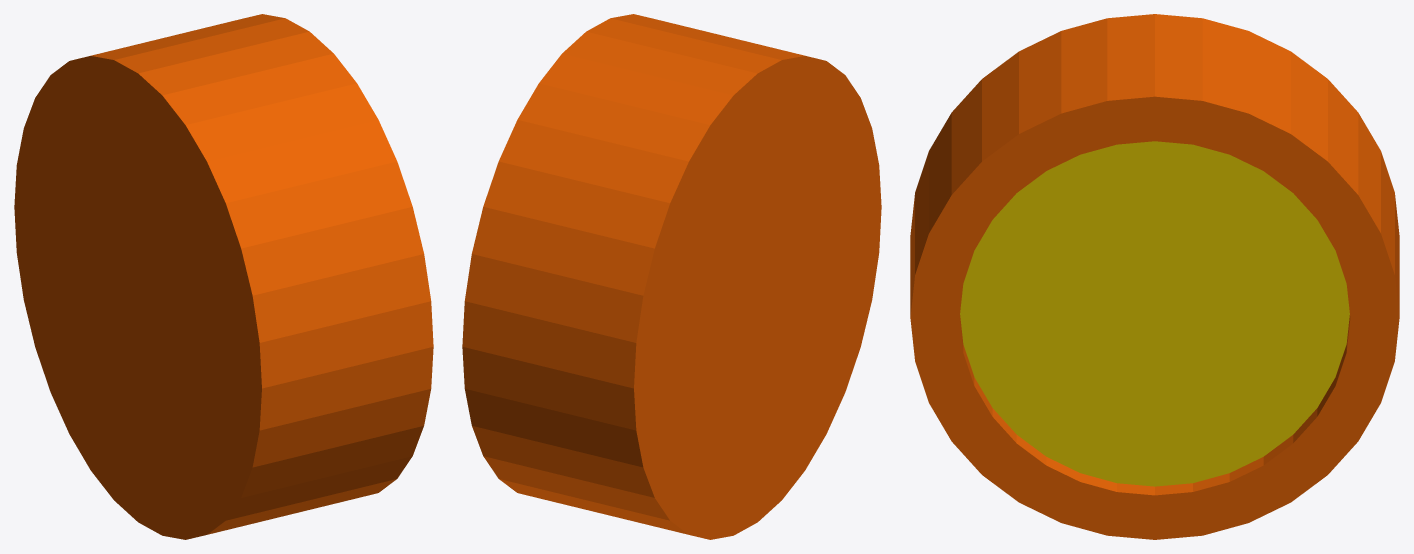
File: Light.fbx
3 renders of one model, left to right at view 1: azimuth 30°, elevation 25°; view 2: azimuth 150°, elevation 25°; view 3: azimuth 270°, elevation 25°, orthographic.
Parts seen in each view (by area): view 1: Light; view 2: Light; view 3: Light.
Boxes of the visible parts, left/top/right/bottom form: Light: left=14, top=14, right=433, bottom=539; Light: left=462, top=14, right=881, bottom=539; Light: left=910, top=14, right=1399, bottom=539.
Bounding box in the file's own units: 40 × 100 × 100.
